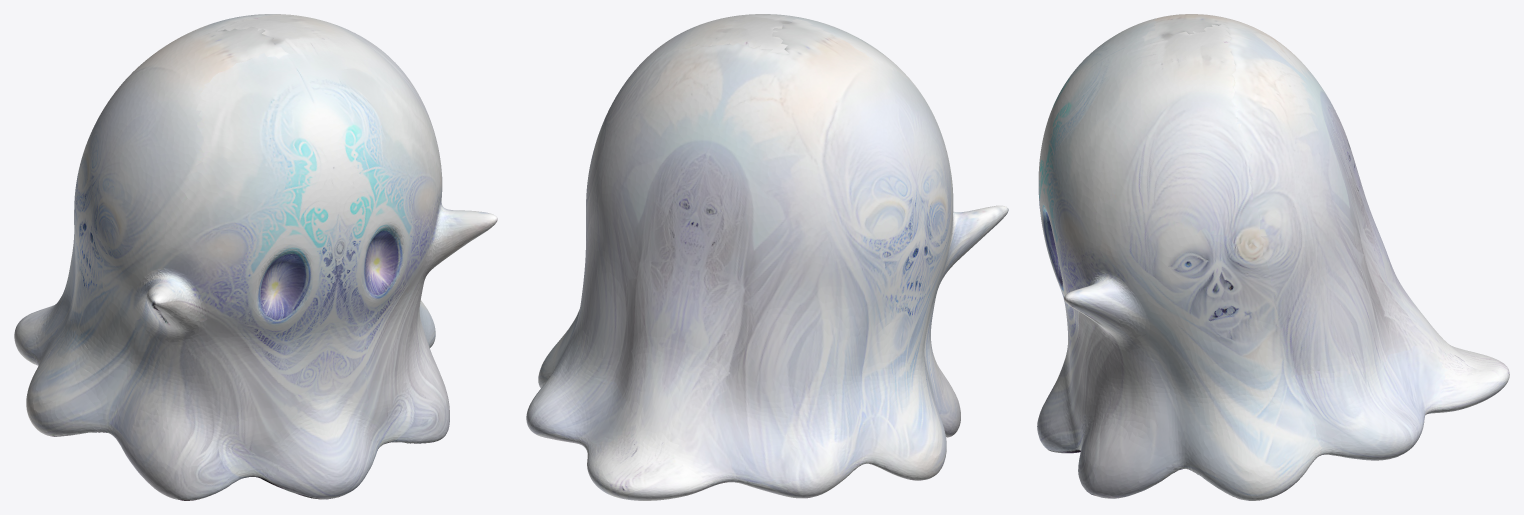
File: ghost.glb
3 views of the same model, side by side, from view 1: azimuth 30°, elevation 25°; view 2: azimuth 150°, elevation 25°; view 3: azimuth 270°, elevation 25° (orthographic).
Bounding box in the file's own units: 1.4 × 1.42 × 1.47.
1 material, 1 textured.
